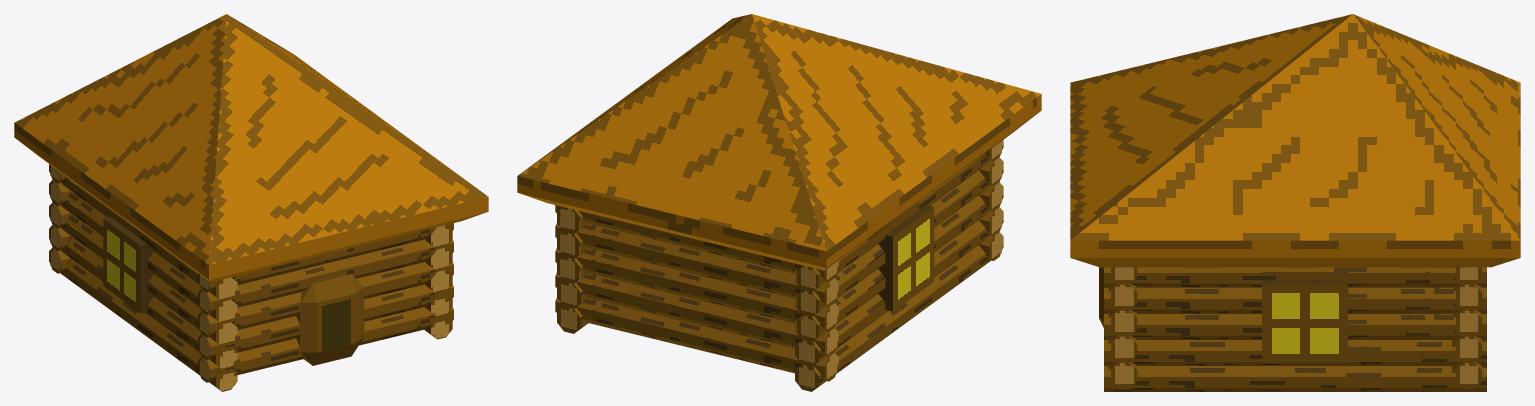
The model's file is dom.gltf.
3 renders of one model, left to right at view 1: azimuth 30°, elevation 25°; view 2: azimuth 150°, elevation 25°; view 3: azimuth 270°, elevation 25°, orthographic. The views are drawn at different scales.
Parts seen in each view (by area): view 1: pyramid, cylinder (×15), beveled_cuboid, cuboid; view 2: pyramid, cylinder (×19), cuboid; view 3: pyramid, cylinder (×15), cuboid.
Part boxes in pixels (left/top/right/bottom): pyramid: left=14, top=14, right=488, bottom=282; cylinder (×15): left=50, top=175, right=453, bottom=391; beveled_cuboid: left=296, top=274, right=364, bottom=365; cuboid: left=103, top=215, right=163, bottom=313; pyramid: left=517, top=14, right=1041, bottom=270; cylinder (×19): left=555, top=152, right=1003, bottom=391; cuboid: left=867, top=203, right=934, bottom=311; pyramid: left=1070, top=14, right=1520, bottom=267; cylinder (×15): left=1104, top=267, right=1486, bottom=391; cuboid: left=1262, top=272, right=1348, bottom=362.
Size of the model in its own units: 1.22 by 1.13 by 1.47.
Materials: 5 (5 with a texture image).
